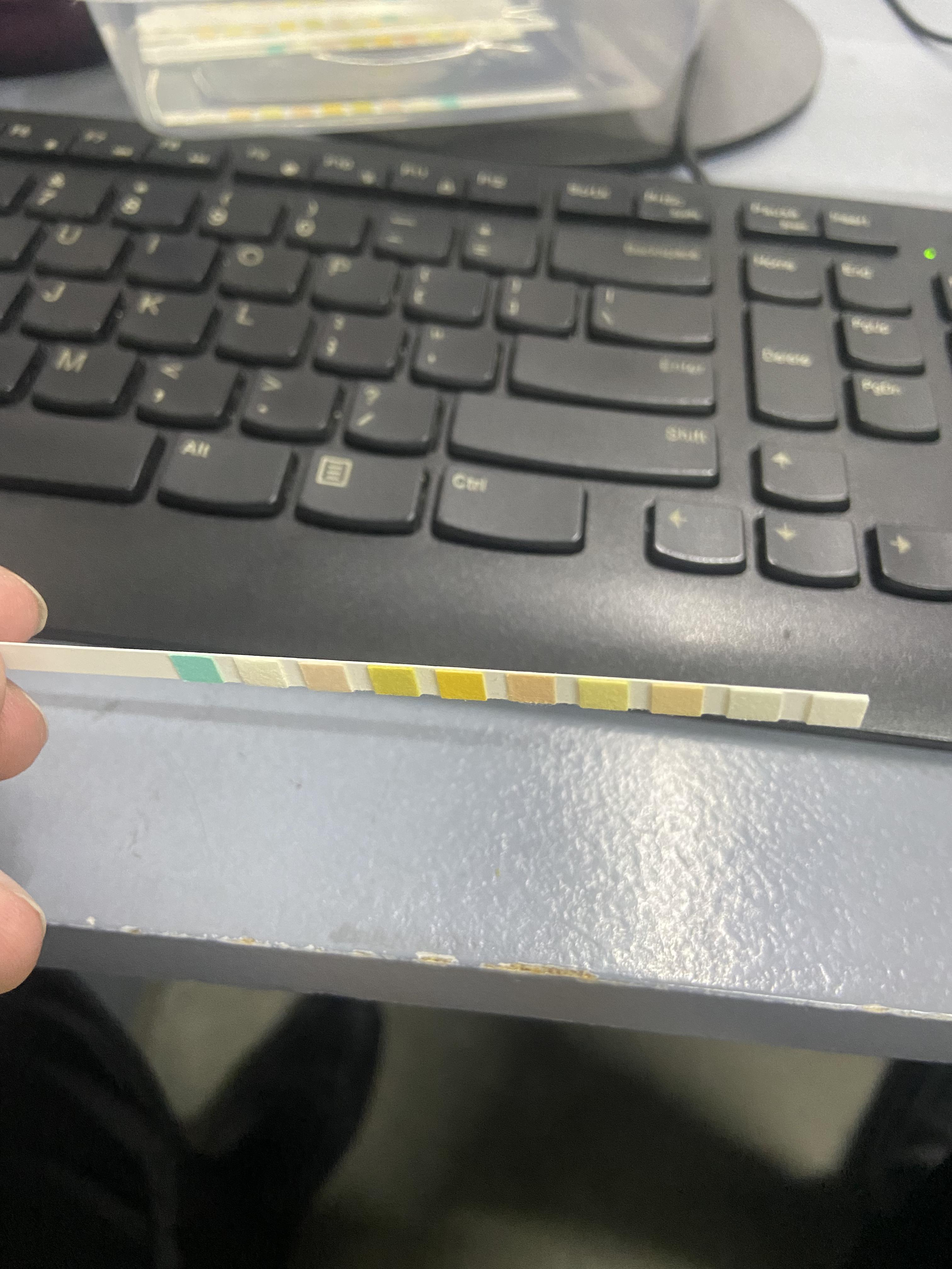Bilirubin: (249, 663, 277, 684)
Blood: (444, 674, 478, 697)
Glucose: (186, 659, 209, 680)
Ketone: (309, 666, 341, 690)
Leukocytes: (820, 701, 858, 723)
Nitrite: (738, 695, 774, 718)
Protein: (587, 685, 625, 706)
SpGravity: (376, 670, 410, 693)
Urobilinogen: (660, 691, 696, 712)
pH: (513, 676, 548, 699)
strip: (12, 645, 869, 726)
